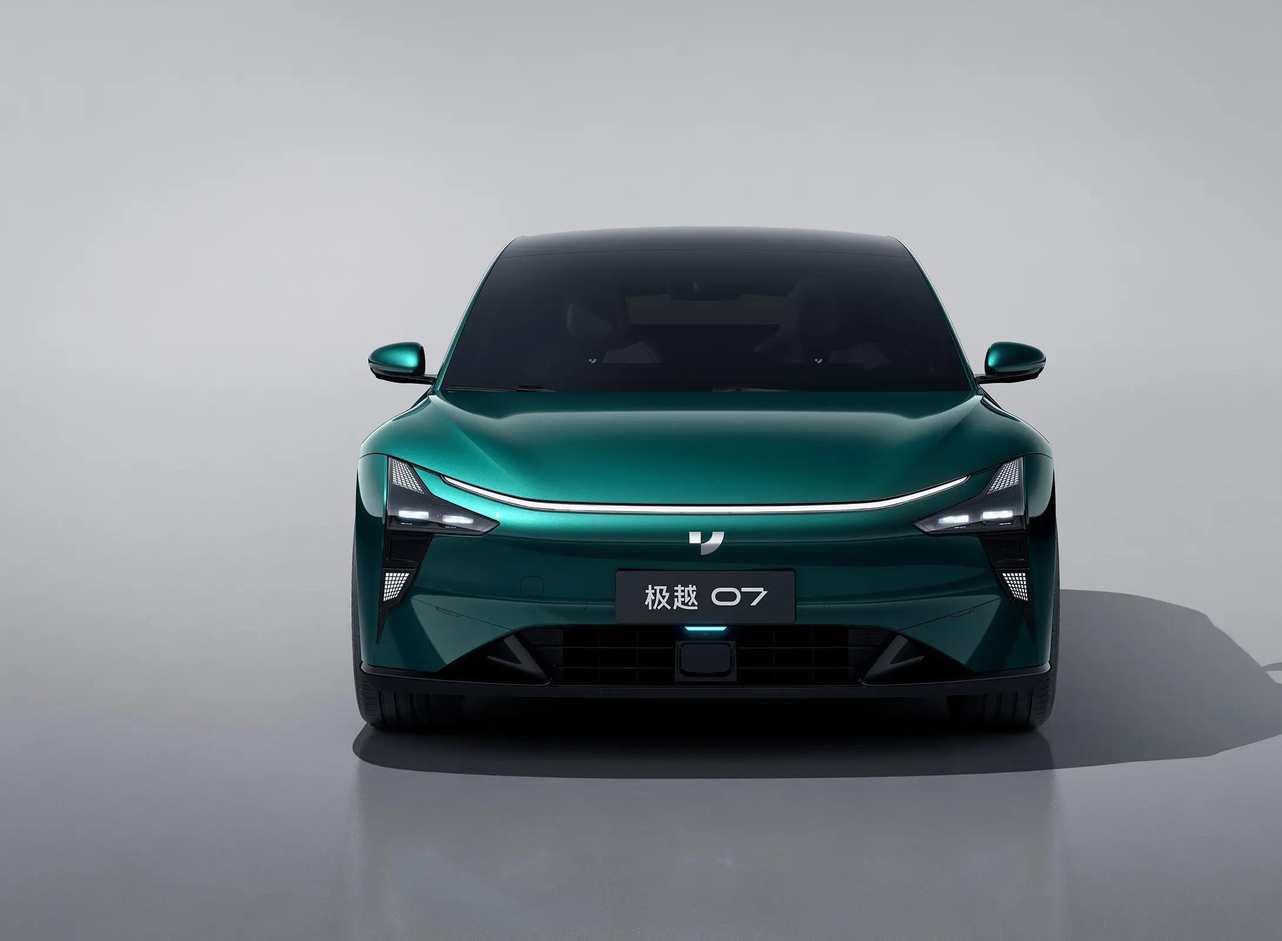JIYUE: (688, 531, 725, 556)
